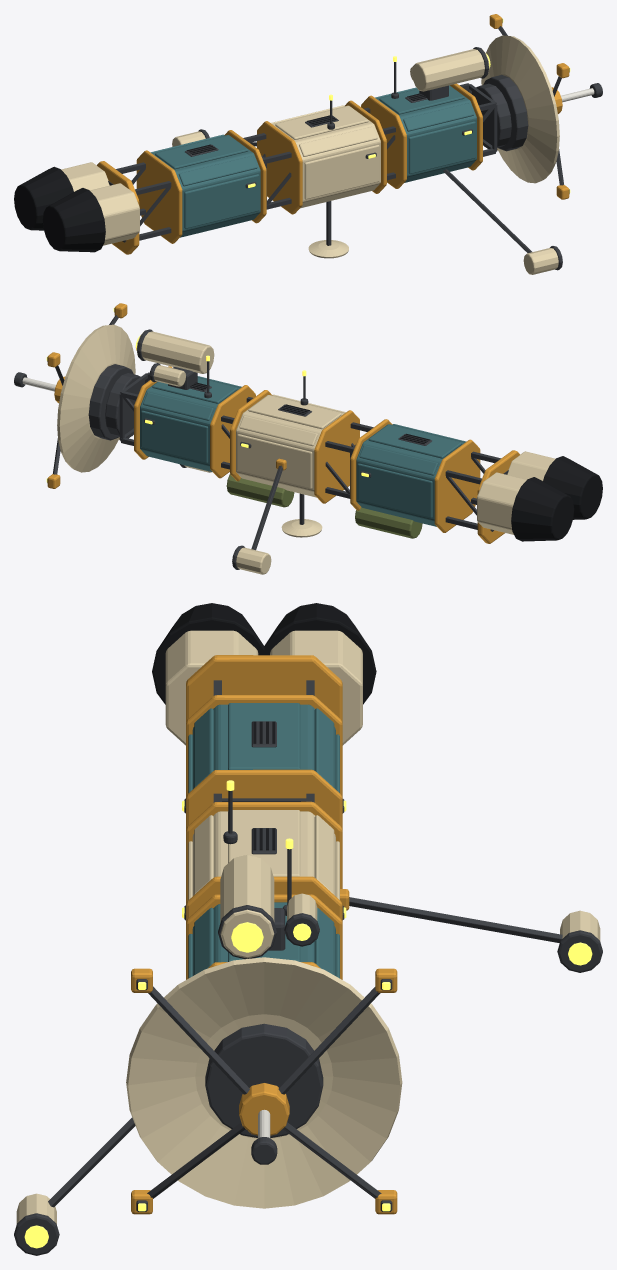
The model's file is research.glb.
The picture shows the model from 3 angles, top to bottom: view 1: azimuth 30°, elevation 25°; view 2: azimuth 150°, elevation 25°; view 3: azimuth 270°, elevation 25°; orthographic projection. The views are drawn at different scales.
Visible parts, largest first — view 1: hull body, instruments body, drive body; view 2: hull body, instruments body, drive body; view 3: instruments body, hull body, drive body.
Part boxes in pixels (x1=…): hull body: x1=97, y1=75, x2=528, y2=254; instruments body: x1=172, y1=14, x2=602, y2=274; drive body: x1=14, y1=162, x2=139, y2=252; hull body: x1=88, y1=364, x2=520, y2=543; instruments body: x1=14, y1=303, x2=322, y2=574; drive body: x1=477, y1=451, x2=602, y2=541; instruments body: x1=14, y1=790, x2=602, y2=1255; hull body: x1=182, y1=655, x2=346, y2=1137; drive body: x1=152, y1=603, x2=376, y2=745.
Size of the model in its own units: 13.99 by 4.38 by 6.99.
